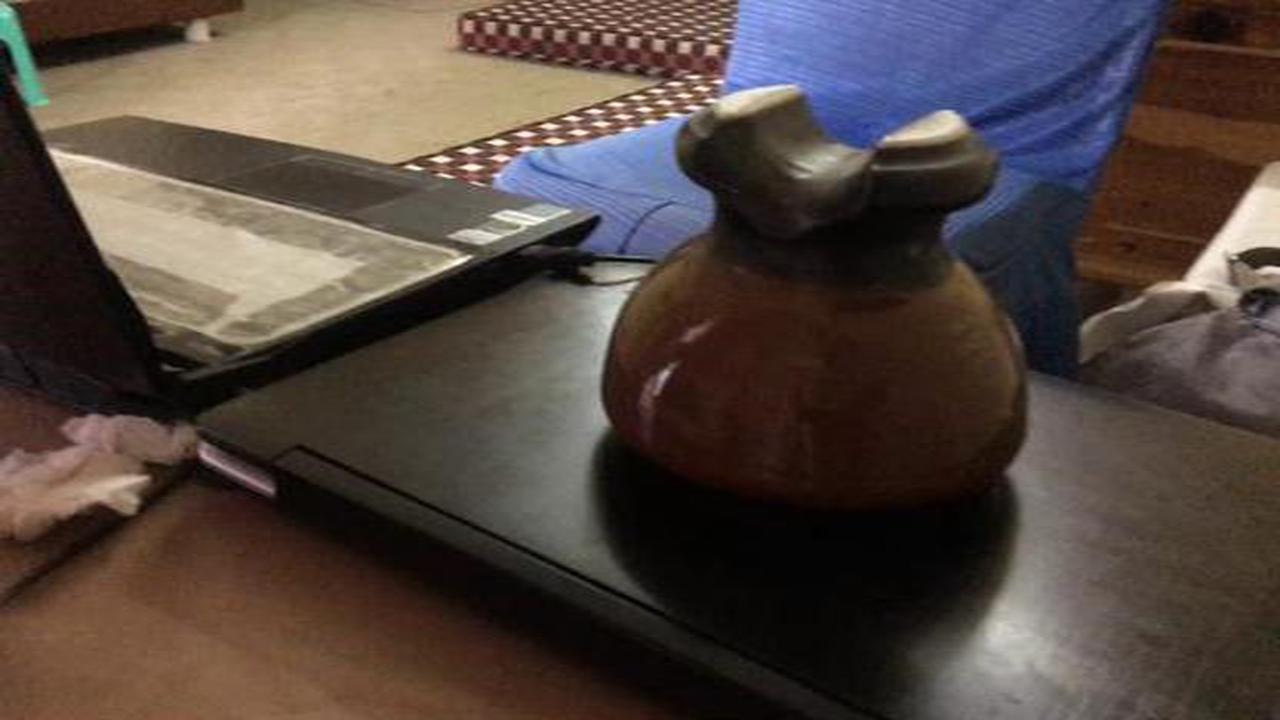insulator_pin: (591, 69, 1050, 534)
